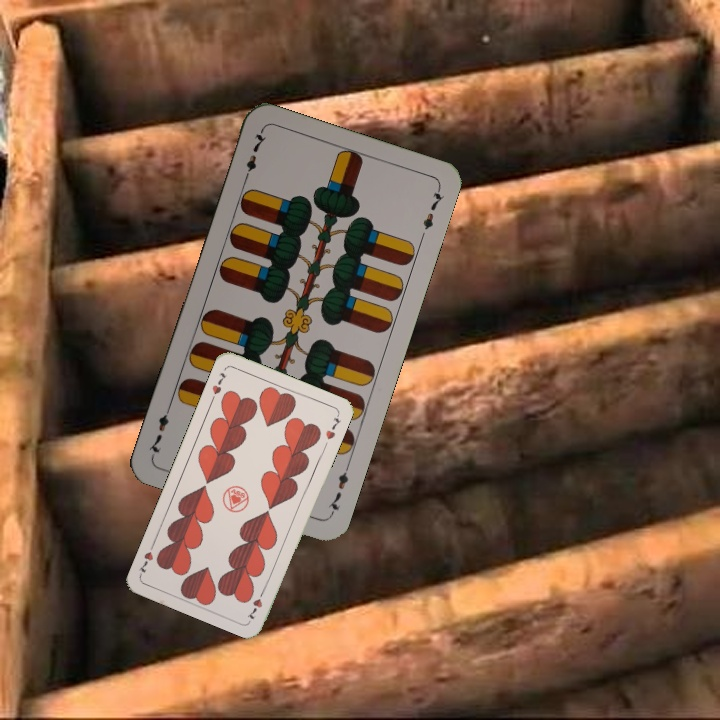E7: (239, 127, 269, 184), (325, 461, 352, 518)
H7: (244, 585, 268, 622), (207, 368, 229, 404)
